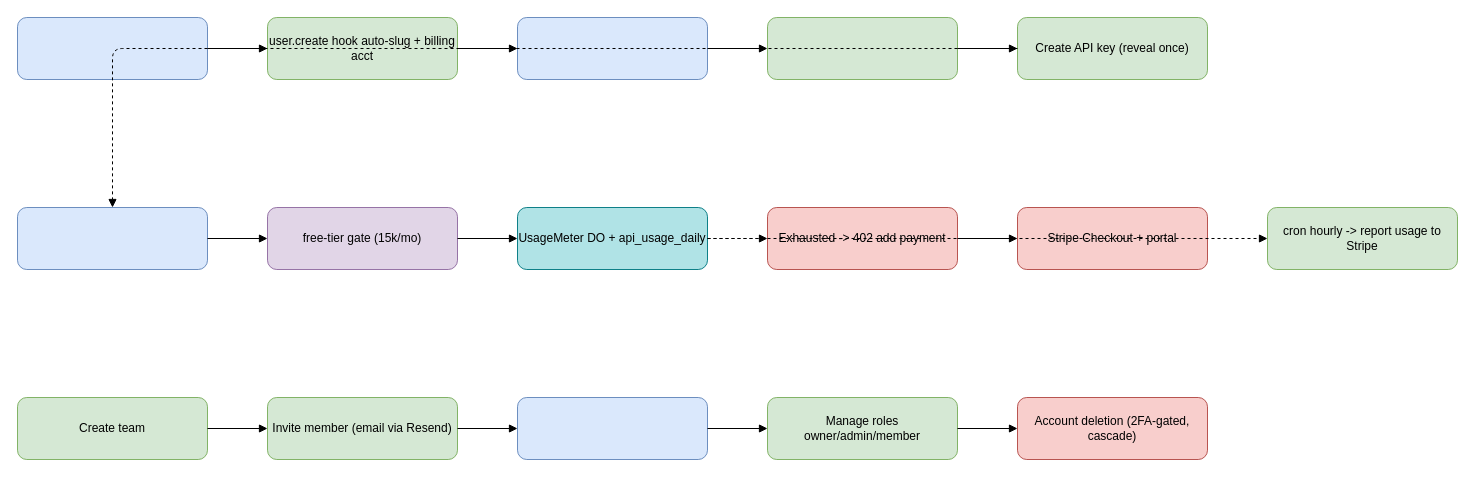
Some shapes in this 1475 by 477 pixel diagram are drawn without their labels. The shapes that lost their labels are listed below. From the top down, each one's centre as x and y in pixels, then its label:
At (112,48): "Sign up (email or GitHub)".
At (612,48): "Dashboard (onboarding)".
At (862,48): "Create project".
At (112,238): "Call /api/v1/* with API key".
At (612,428): "Accept invite /invite/:id".
